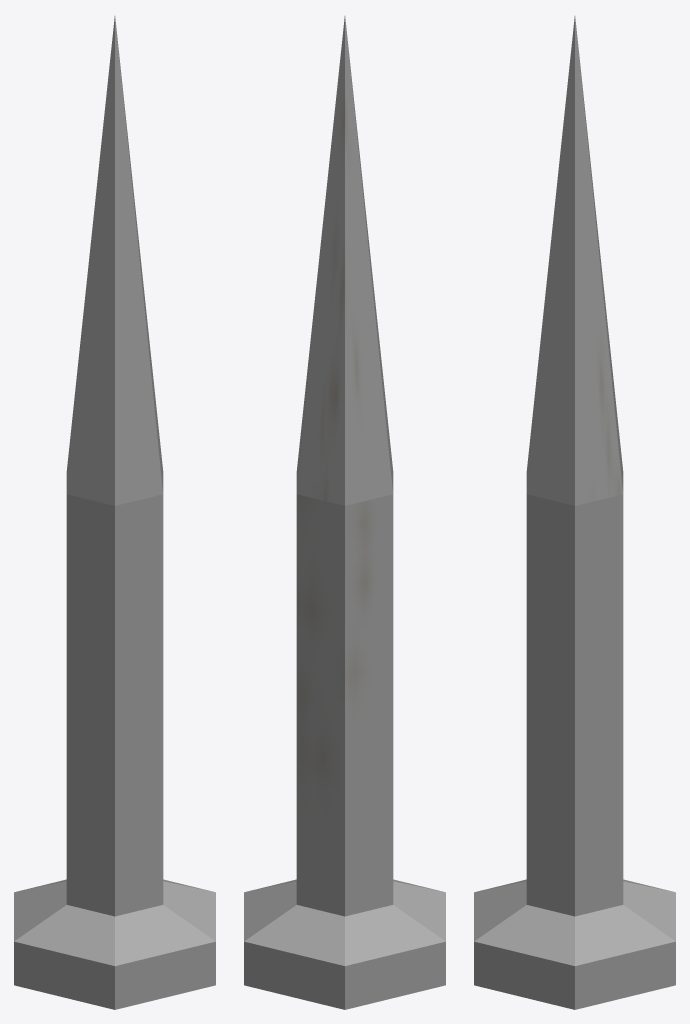
Rendered from Nail.fbx.
The picture shows the model from 3 angles, left to right: view 1: azimuth 30°, elevation 25°; view 2: azimuth 150°, elevation 25°; view 3: azimuth 270°, elevation 25°; orthographic projection.
Parts seen in each view (by area): view 1: Nail_1; view 2: Nail_1; view 3: Nail_1.
Boxes of the visible parts, <box> form: Nail_1: <box>14,16,215,1009</box>; Nail_1: <box>244,16,445,1009</box>; Nail_1: <box>474,16,675,1009</box>.
Size of the model in its own units: 2.77 by 12.41 by 2.4.
